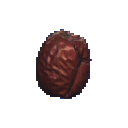ng: (30, 27, 98, 103)
